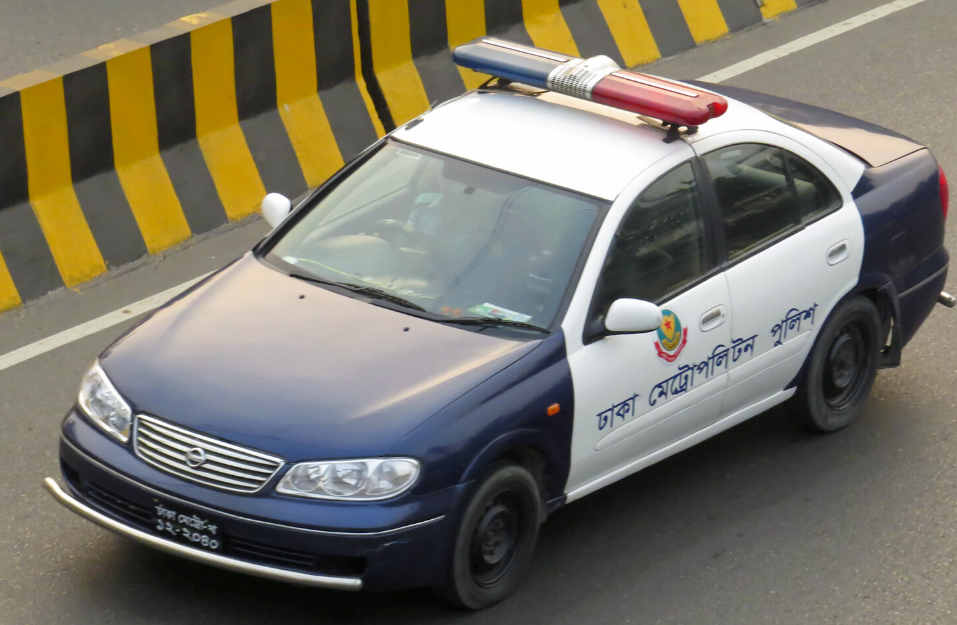Police cars: (40, 24, 953, 613)
